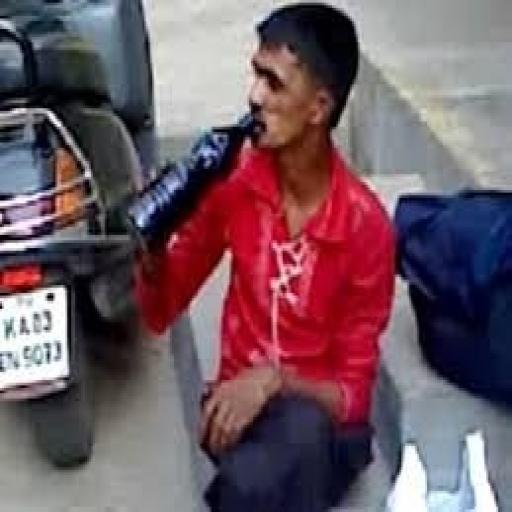drinking: (124, 108, 263, 251)
